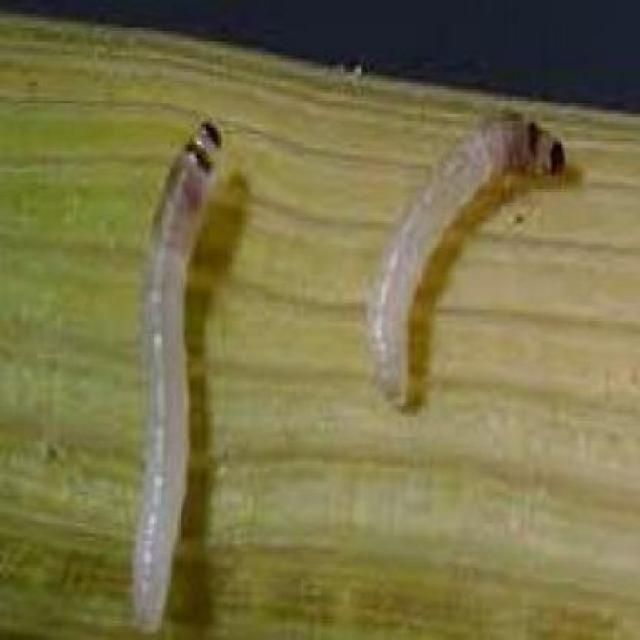whorl-maggot: (357, 111, 571, 415), (123, 109, 234, 640)
